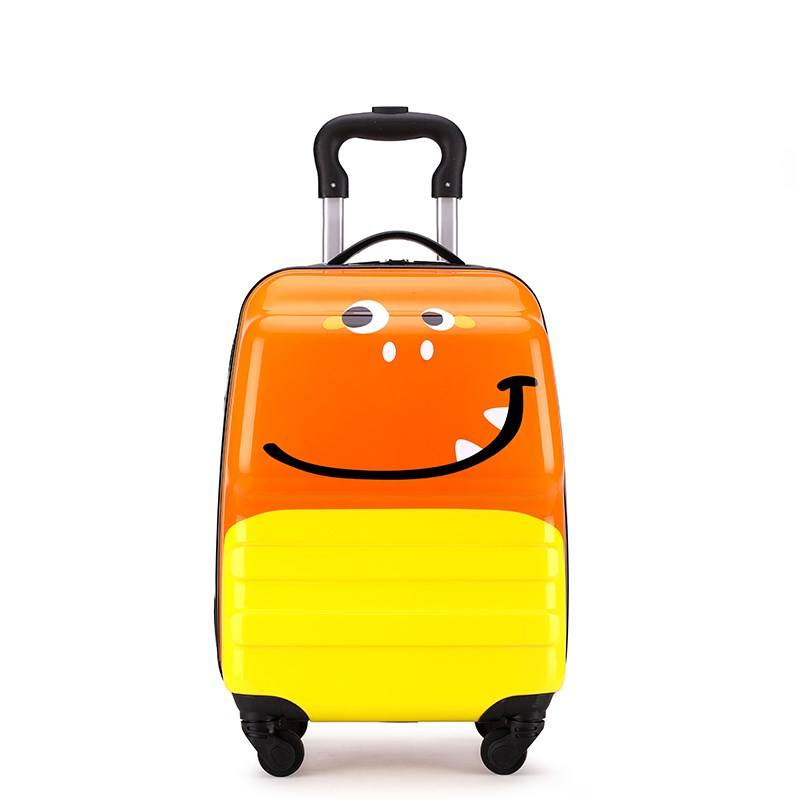box: (214, 261, 570, 722)
handle: (322, 229, 471, 268)
wheel: (258, 727, 304, 778), (480, 731, 527, 775)
